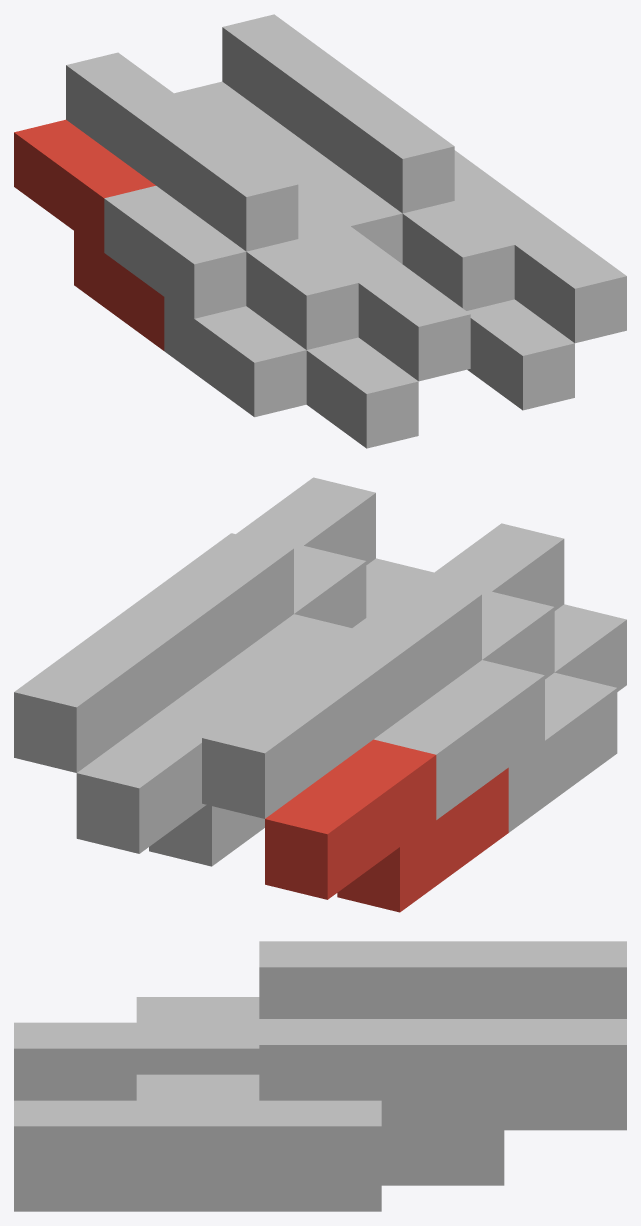
File: tiling.obj
3 views of the same model, one above another, from view 1: azimuth 30°, elevation 25°; view 2: azimuth 150°, elevation 25°; view 3: azimuth 270°, elevation 25° (orthographic). The views are drawn at different scales.
Visible parts, largest first — view 1: copy_1_domain_2, copy_1_domain_4, copy_1_domain_8, copy_1_domain_6, copy_1_domain_1, copy_1_domain_7, copy_1_domain_3, copy_1_domain_5; view 2: copy_1_domain_2, copy_1_domain_1, copy_1_domain_4, copy_1_domain_8, copy_1_domain_5, copy_1_domain_3, copy_1_domain_7, copy_1_domain_6; view 3: copy_1_domain_7, copy_1_domain_8, copy_1_domain_4, copy_1_domain_3, copy_1_domain_5, copy_1_domain_6.
Part boxes in pixels (x1,y1,x2,y2): copy_1_domain_2: (104, 186, 418, 448); copy_1_domain_4: (156, 118, 470, 381); copy_1_domain_8: (312, 80, 626, 343); copy_1_domain_6: (264, 147, 574, 410); copy_1_domain_1: (14, 119, 164, 350); copy_1_domain_7: (222, 14, 536, 222); copy_1_domain_3: (66, 52, 379, 260); copy_1_domain_5: (174, 81, 311, 159); copy_1_domain_2: (374, 604, 626, 832); copy_1_domain_1: (265, 739, 508, 912); copy_1_domain_4: (311, 523, 564, 738); copy_1_domain_8: (123, 477, 375, 693); copy_1_domain_5: (76, 693, 264, 866); copy_1_domain_3: (202, 658, 373, 818); copy_1_domain_7: (14, 612, 185, 772); copy_1_domain_6: (185, 558, 433, 707); copy_1_domain_7: (198, 1019, 626, 1181); copy_1_domain_8: (14, 1019, 442, 1181); copy_1_domain_4: (14, 941, 442, 1100); copy_1_domain_3: (198, 941, 626, 1074); copy_1_domain_5: (198, 1100, 626, 1211); copy_1_domain_6: (14, 1182, 197, 1211).
Size of the model in its own units: 6 by 3 by 10.
